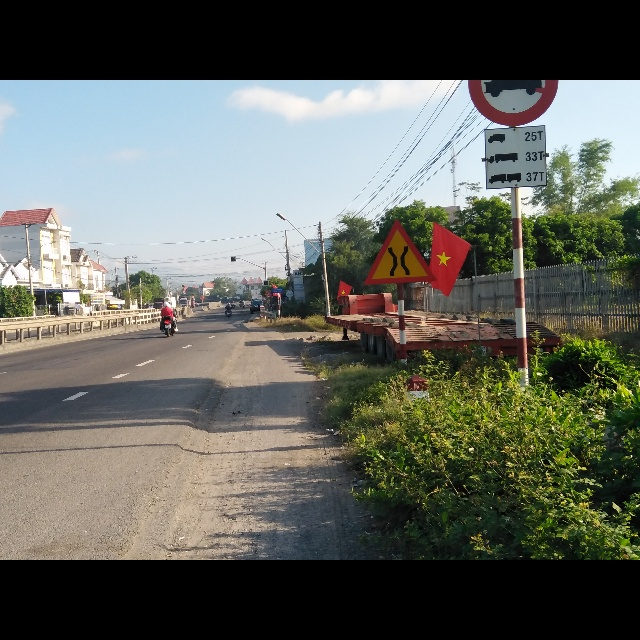Cầu hẹp: (364, 217, 437, 288)
